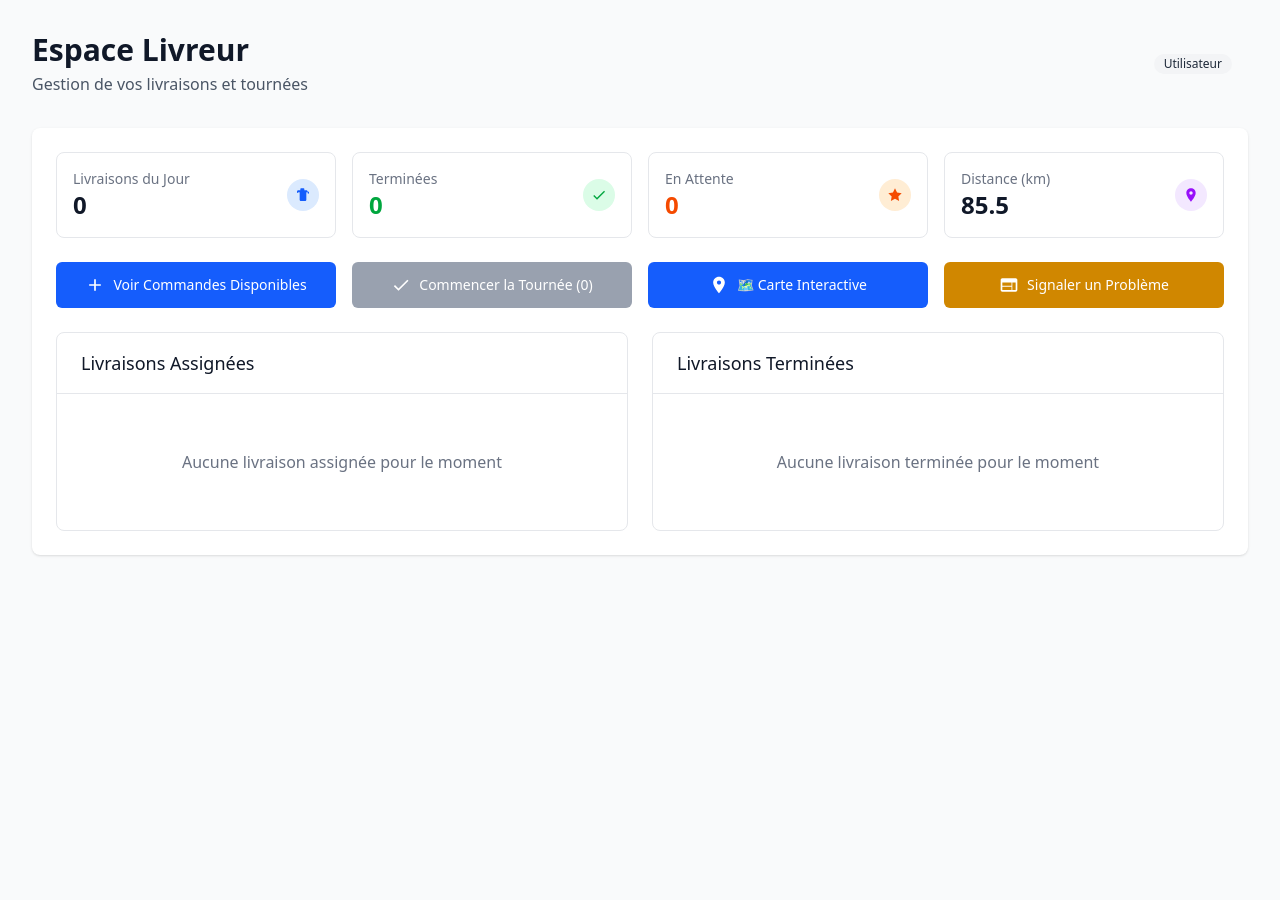
Test: DeliveryPersonDashboard › Available orders display › should display customer addresses
Click the button "Voir Commandes Disponibles".
click(196, 285)  # box [56,262,336,308]
(page scrolled)
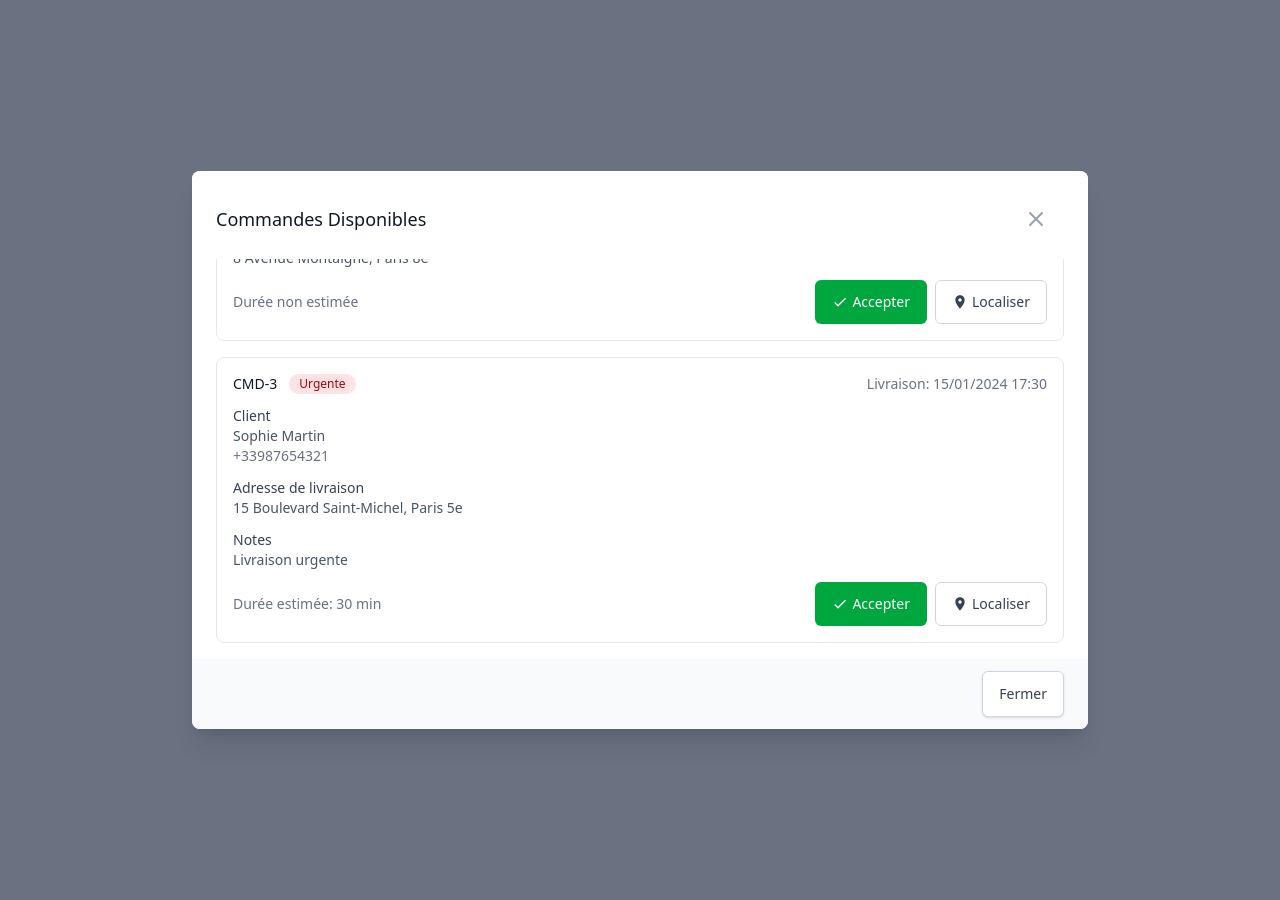
Check: the text "15 Boulevard Saint-Michel, Paris 5e" is shown, box [233,498,463,517]
